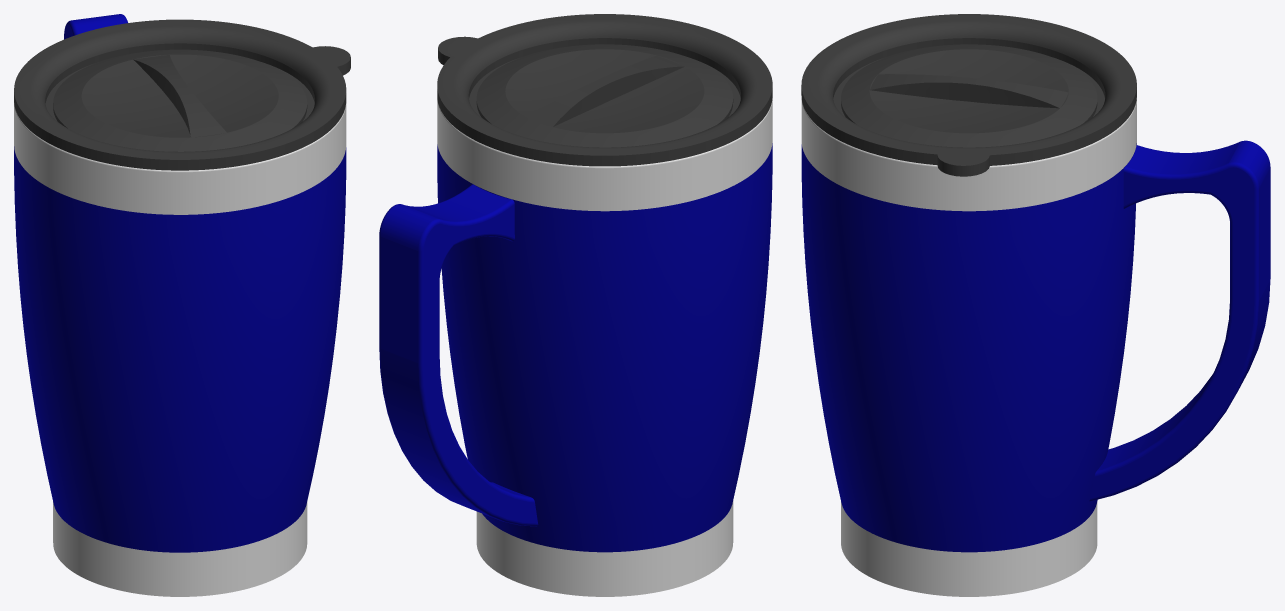
The picture shows the model from 3 angles, left to right: view 1: azimuth 30°, elevation 25°; view 2: azimuth 150°, elevation 25°; view 3: azimuth 270°, elevation 25°; orthographic projection.
Visible parts, largest first — view 1: mesh6_mesh6-geometry, mesh11_mesh11-geometry, mesh32_mesh32-geometry, mesh1_mesh1-geometry, mesh19_mesh19-geometry, mesh21_mesh21-geometry; view 2: mesh6_mesh6-geometry, mesh11_mesh11-geometry, mesh21_mesh21-geometry, mesh32_mesh32-geometry, mesh1_mesh1-geometry, mesh19_mesh19-geometry; view 3: mesh6_mesh6-geometry, mesh11_mesh11-geometry, mesh21_mesh21-geometry, mesh32_mesh32-geometry, mesh1_mesh1-geometry, mesh19_mesh19-geometry.
Boxes of the visible parts, <box> form: mesh6_mesh6-geometry: <box>14,146,346,552</box>; mesh11_mesh11-geometry: <box>14,103,346,596</box>; mesh32_mesh32-geometry: <box>14,19,350,170</box>; mesh1_mesh1-geometry: <box>53,49,307,151</box>; mesh19_mesh19-geometry: <box>133,55,226,137</box>; mesh21_mesh21-geometry: <box>64,14,127,39</box>; mesh6_mesh6-geometry: <box>437,143,772,552</box>; mesh11_mesh11-geometry: <box>437,98,772,596</box>; mesh21_mesh21-geometry: <box>379,184,538,526</box>; mesh32_mesh32-geometry: <box>437,14,772,166</box>; mesh1_mesh1-geometry: <box>476,44,733,147</box>; mesh19_mesh19-geometry: <box>525,55,684,126</box>; mesh6_mesh6-geometry: <box>801,143,1136,552</box>; mesh11_mesh11-geometry: <box>801,98,1136,596</box>; mesh21_mesh21-geometry: <box>1089,140,1270,501</box>; mesh32_mesh32-geometry: <box>801,14,1136,176</box>; mesh1_mesh1-geometry: <box>841,44,1097,147</box>; mesh19_mesh19-geometry: <box>870,74,1068,108</box>.
Bounding box in the file's own units: 0.4607 × 0.6531 × 0.601.
